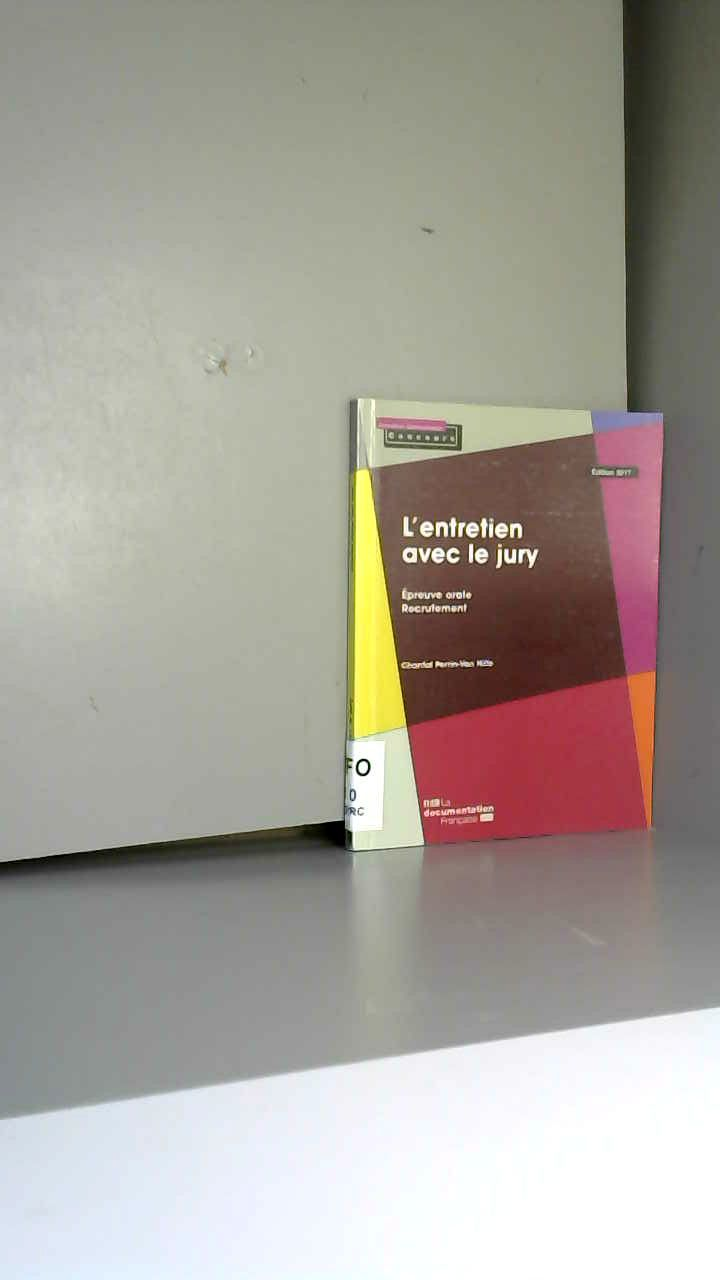book: (320, 370, 715, 926)
